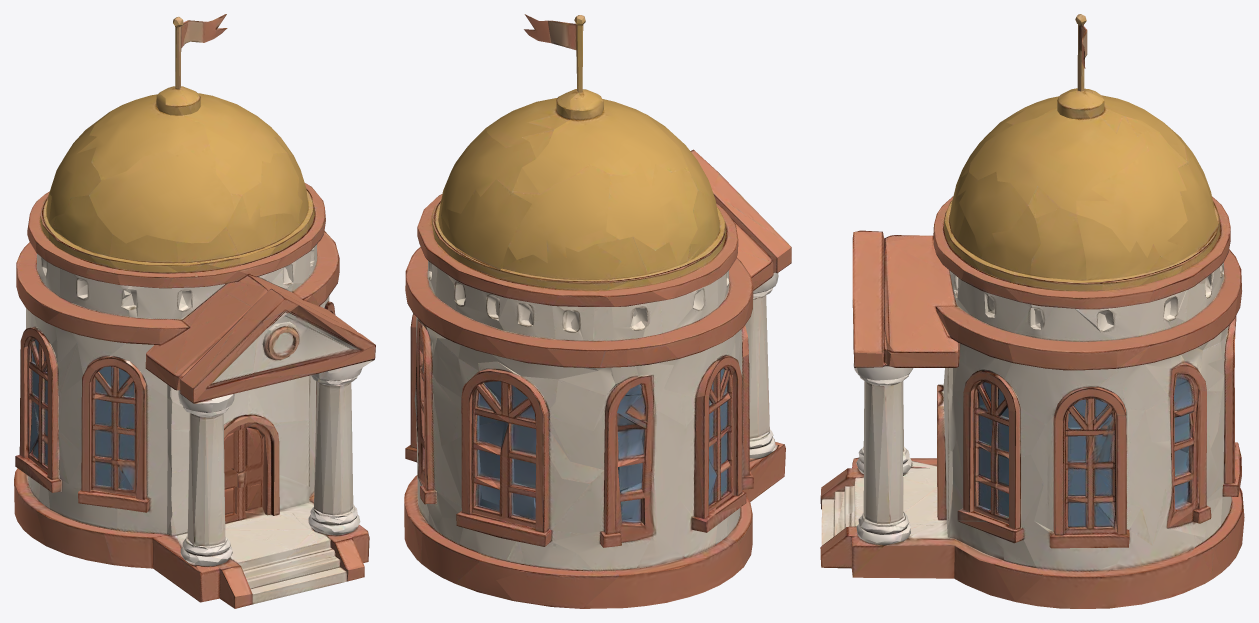
The model's file is bank.glb.
3 views of the same model, side by side, from view 1: azimuth 30°, elevation 25°; view 2: azimuth 150°, elevation 25°; view 3: azimuth 270°, elevation 25° (orthographic). The views are drawn at different scales.
Bounding box in the file's own units: 1.18 × 1.9 × 1.4.
1 material, 1 textured.
